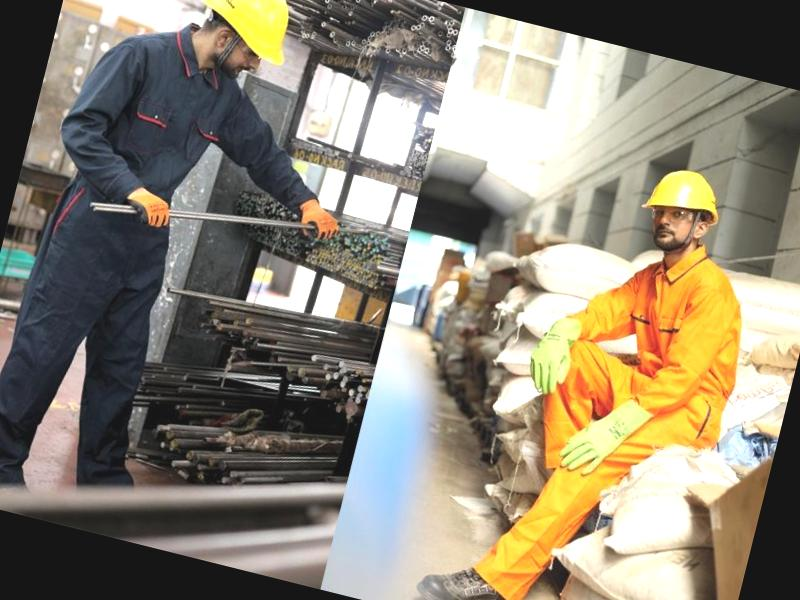helmet: (189, 0, 303, 73), (634, 158, 732, 228)
no_vest: (64, 26, 245, 252)
person: (411, 126, 782, 600), (0, 0, 305, 538)
